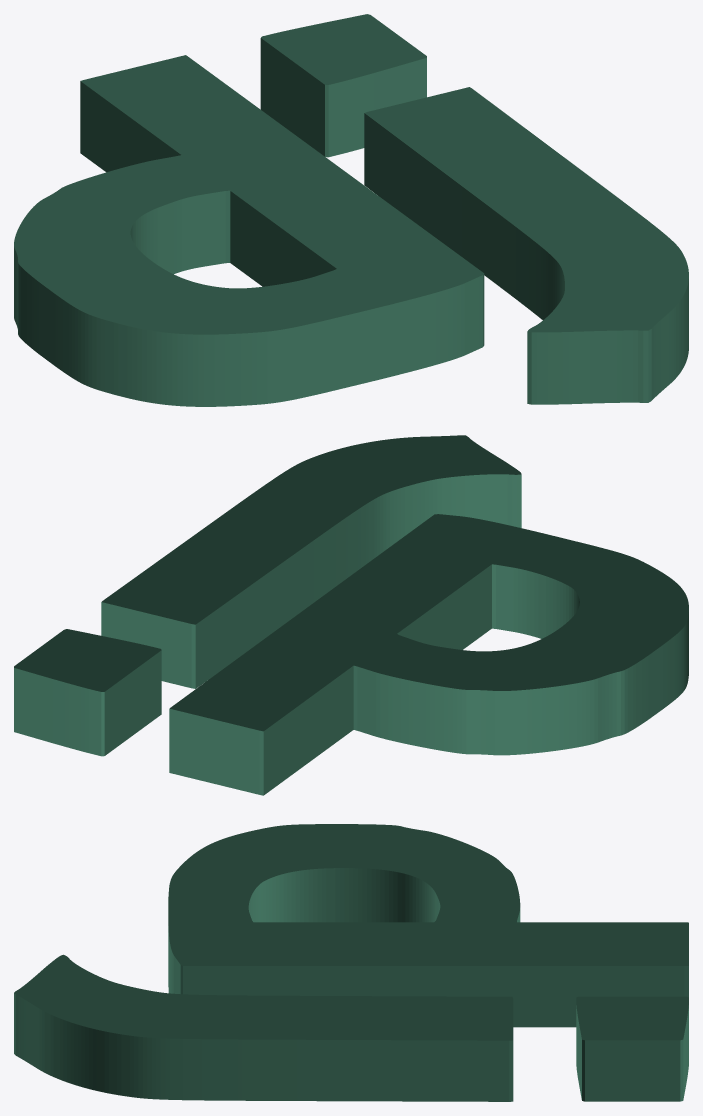
Rendered from django.glb.
The picture shows the model from 3 angles, top to bottom: view 1: azimuth 30°, elevation 25°; view 2: azimuth 150°, elevation 25°; view 3: azimuth 270°, elevation 25°; orthographic projection. The views are drawn at different scales.
Visible parts, largest first — view 1: Node1, Node2, Node3; view 2: Node1, Node2, Node3; view 3: Node1, Node2, Node3.
Boxes of the visible parts, x1,y1,x2,y2 form: Node1: (14, 55, 484, 406); Node2: (364, 87, 688, 404); Node3: (260, 14, 426, 157); Node1: (169, 514, 688, 795); Node2: (101, 435, 521, 688); Node3: (14, 629, 161, 756); Node1: (168, 824, 688, 1027); Node2: (14, 954, 513, 1101); Node3: (576, 996, 688, 1101).
Bounding box in the file's own units: 2.98 × 0.3937 × 3.93.
